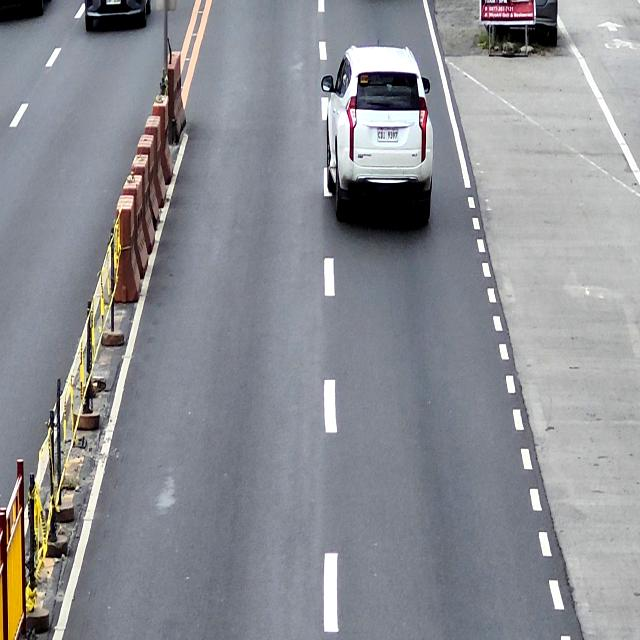Car: (321, 43, 435, 226)
License-Plate: (377, 128, 399, 141)
